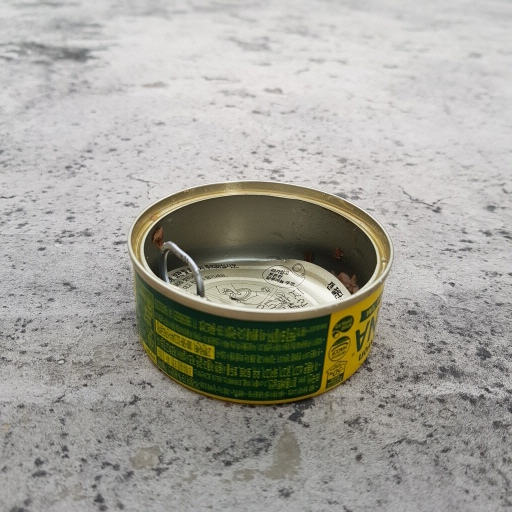Metal_1: (121, 176, 396, 405)
